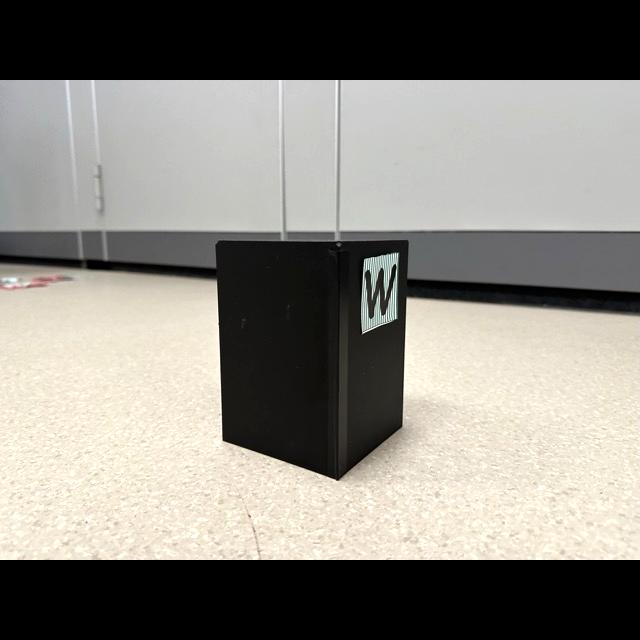W: (365, 263, 396, 319)
